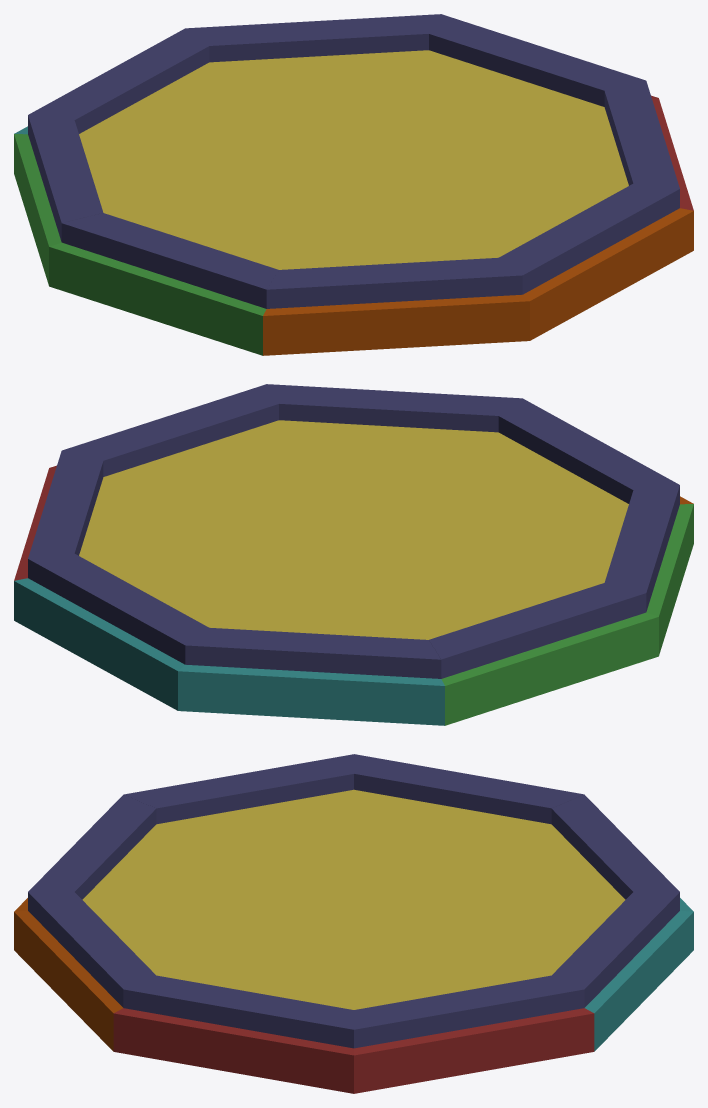
File: SandPit.fbx
3 views of the same model, one above another, from view 1: azimuth 30°, elevation 25°; view 2: azimuth 150°, elevation 25°; view 3: azimuth 270°, elevation 25° (orthographic). The views are drawn at different scales.
Visible parts, largest first — view 1: Cylinder, Cylinder.006, Cylinder.007, Cylinder.002, Cylinder.005, Cylinder.003, Cylinder.001, Cylinder.008, Cylinder.004; view 2: Cylinder, Cylinder.001, Cylinder.008, Cylinder.005, Cylinder.002, Cylinder.004, Cylinder.006, Cylinder.007, Cylinder.003; view 3: Cylinder, Cylinder.003, Cylinder.004, Cylinder.008, Cylinder.007, Cylinder.002, Cylinder.005, Cylinder.001, Cylinder.006.
Part boxes in pixels (left/top/right/bottom): Cylinder: left=14, top=50, right=693, bottom=355; Cylinder.006: left=266, top=257, right=522, bottom=308; Cylinder.007: left=61, top=213, right=278, bottom=308; Cylinder.002: left=185, top=14, right=440, bottom=62; Cylinder.005: left=499, top=183, right=679, bottom=294; Cylinder.003: left=429, top=14, right=645, bottom=106; Cylinder.001: left=28, top=28, right=209, bottom=133; Cylinder.008: left=28, top=115, right=103, bottom=241; Cylinder.004: left=604, top=80, right=679, bottom=188; Cylinder: left=14, top=420, right=693, bottom=725; Cylinder.001: left=185, top=627, right=441, bottom=678; Cylinder.008: left=429, top=583, right=646, bottom=678; Cylinder.005: left=267, top=384, right=522, bottom=432; Cylinder.002: left=28, top=553, right=208, bottom=664; Cylinder.004: left=62, top=384, right=278, bottom=476; Cylinder.006: left=498, top=398, right=679, bottom=503; Cylinder.007: left=604, top=485, right=679, bottom=611; Cylinder.003: left=28, top=450, right=103, bottom=558; Cylinder: left=14, top=789, right=693, bottom=1093; Cylinder.003: left=354, top=975, right=584, bottom=1048; Cylinder.004: left=123, top=975, right=353, bottom=1048; Cylinder.008: left=354, top=754, right=584, bottom=824; Cylinder.007: left=124, top=754, right=353, bottom=824; Cylinder.002: left=552, top=892, right=679, bottom=1007; Cylinder.005: left=28, top=892, right=155, bottom=1007; Cylinder.001: left=551, top=794, right=679, bottom=899; Cylinder.006: left=28, top=794, right=156, bottom=899.
Size of the model in its own units: 67.48 by 6.39 by 67.48.
